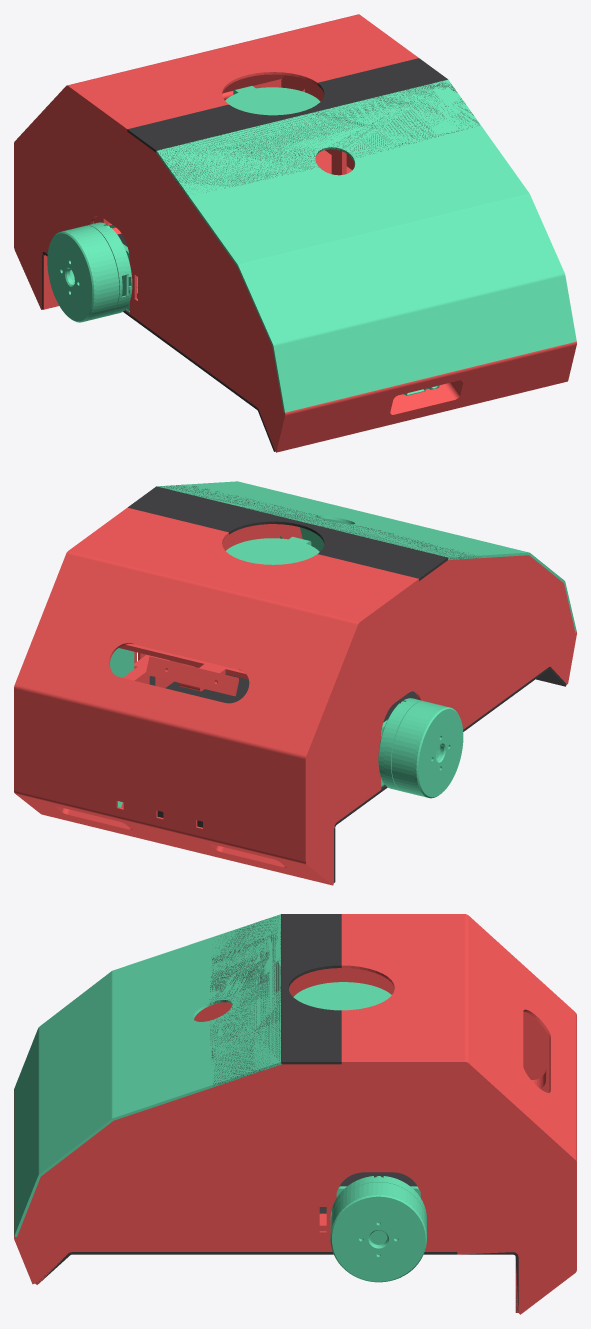
3 renders of one model, top to bottom at view 1: azimuth 30°, elevation 25°; view 2: azimuth 150°, elevation 25°; view 3: azimuth 270°, elevation 25°, orthographic. The views are drawn at different scales.
Visible parts, largest first — view 1: Base; view 2: Base; view 3: Base.
Boxes of the visible parts, <box> form: Base: <box>14,14,576,452</box>; Base: <box>14,481,576,885</box>; Base: <box>14,914,576,1314</box>.
Bounding box in the file's own units: 0.3178 × 0.4024 × 0.1996.
